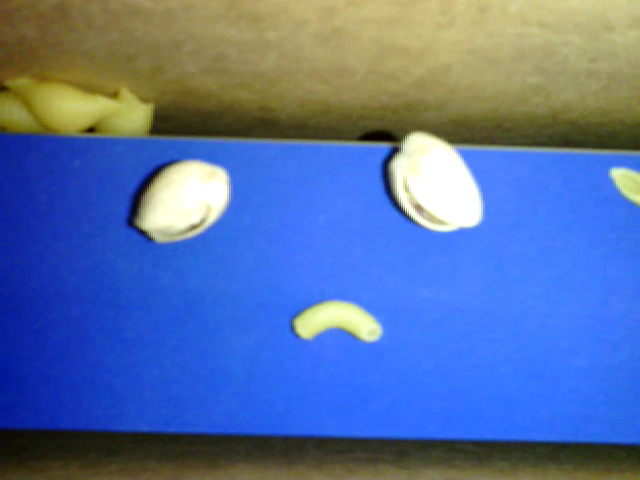elbow: (292, 298, 381, 343)
penne: (605, 165, 639, 210)
shell: (5, 77, 125, 135), (94, 85, 153, 135), (1, 92, 59, 135)
